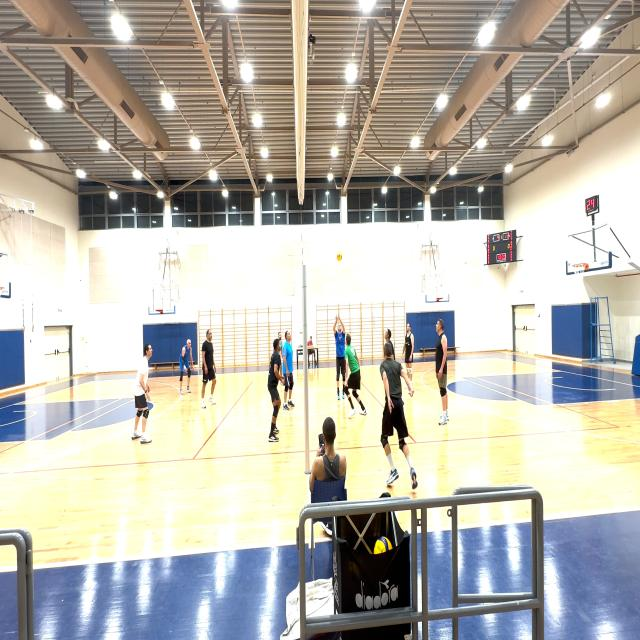volleyball: (373, 536, 393, 555), (336, 252, 342, 261)
